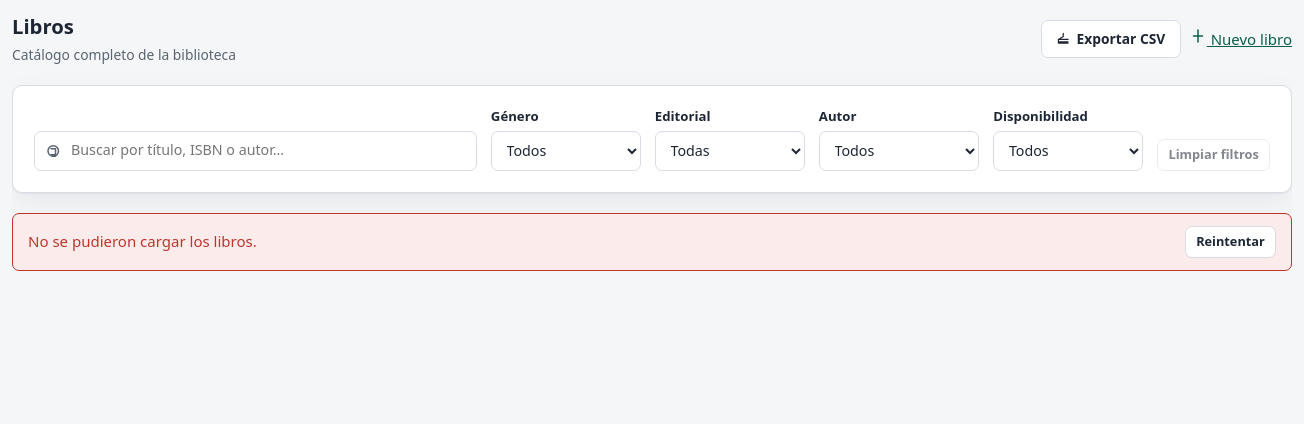
Test: BooksPage › shows the error state with a Reintentar action when loading fails
Check: the text "No se pudieron cargar los libros." is shown, box x1=28 y1=231 x2=257 y2=251
Click the button "Reintentar": [1230, 242] box x1=1185 y1=226 x2=1276 y2=258
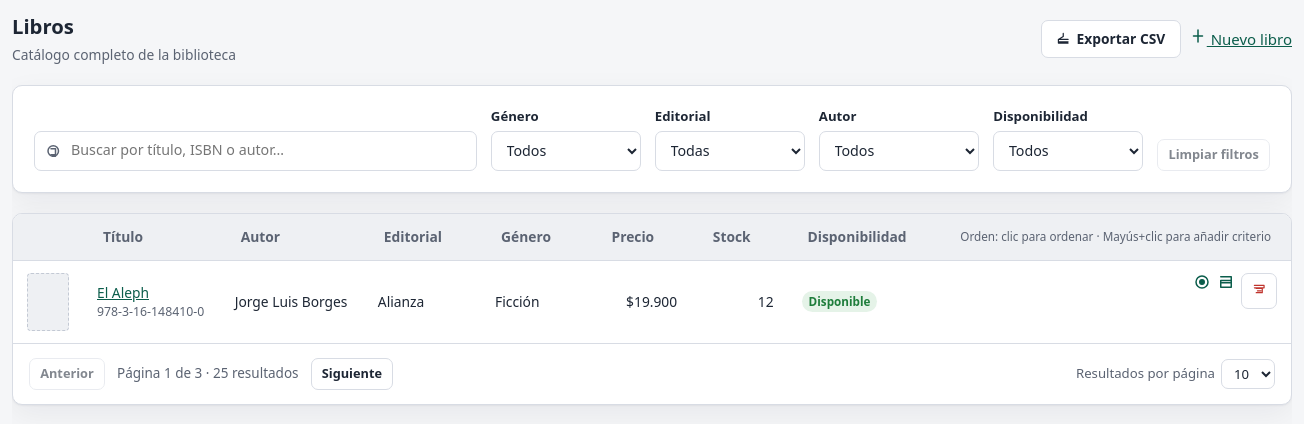
Check: the link "El Aleph" is shown, box x1=97 y1=283 x2=149 y2=302
